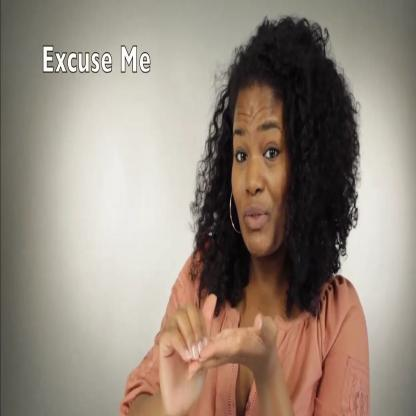ExcuseMe: (148, 16, 372, 416)
